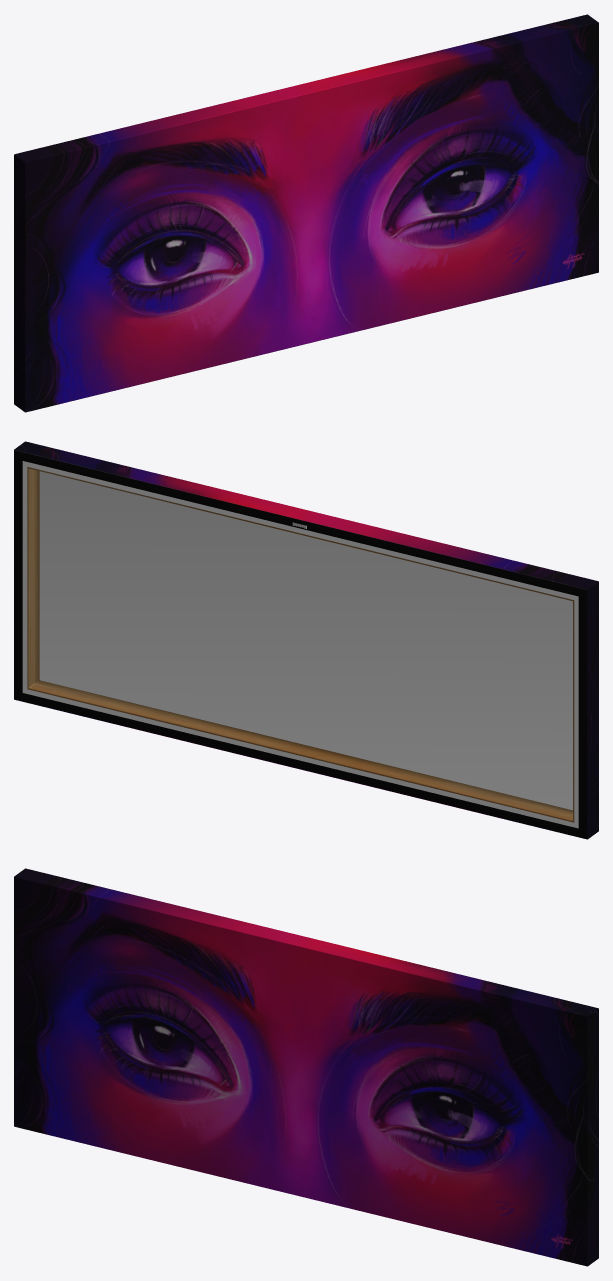
3 views of the same model, one above another, from view 1: azimuth 30°, elevation 25°; view 2: azimuth 150°, elevation 25°; view 3: azimuth 330°, elevation 25° (orthographic).
Visible parts, largest first — view 1: wallart2529; view 2: wallart2529; view 3: wallart2529.
Boxes of the visible parts, box(x1,y1,x2,y2) form: wallart2529: box(14, 14, 598, 412); wallart2529: box(14, 441, 598, 839); wallart2529: box(14, 868, 598, 1266).
Size of the model in its own units: 0.9144 by 0.381 by 0.0332.
Materials: 1 (1 with a texture image).
